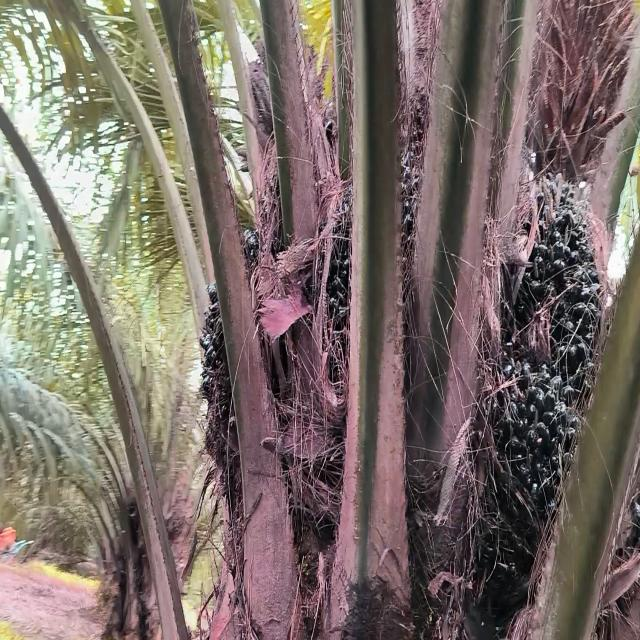palm-oil: (486, 160, 605, 457), (452, 357, 568, 636), (325, 149, 420, 448), (195, 225, 286, 516)
